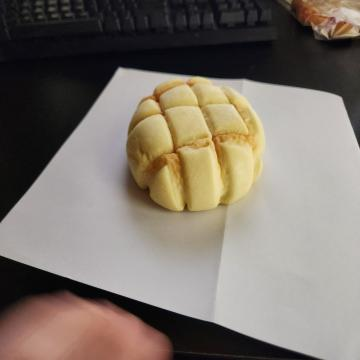melon_bread: (128, 77, 266, 210)
